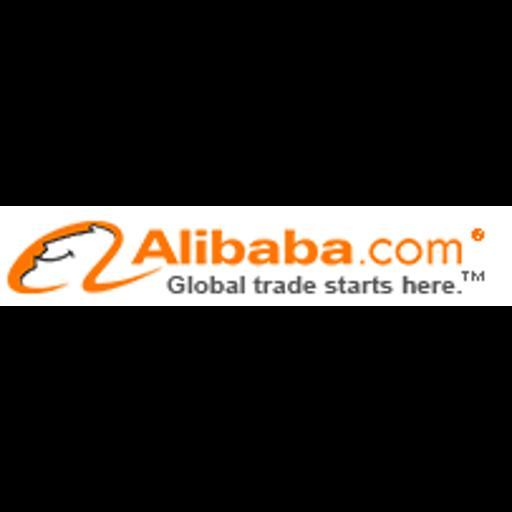Alibaba: (0, 206, 512, 306)
